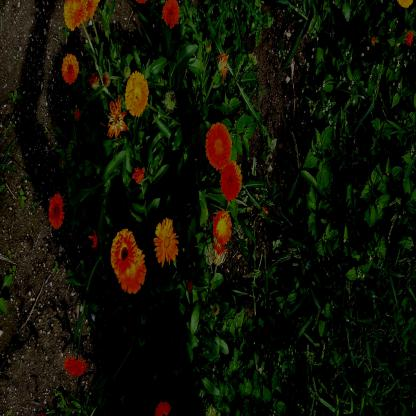marigold: (206, 123, 231, 169), (119, 249, 144, 294), (110, 230, 134, 276), (125, 72, 148, 115), (156, 220, 177, 264), (222, 164, 240, 201), (64, 355, 89, 377), (214, 212, 231, 244), (62, 54, 79, 83), (50, 196, 63, 228)
